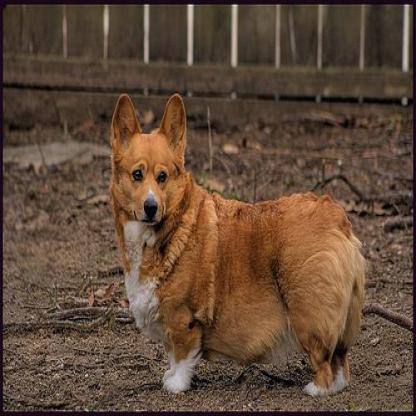Pembroke: (106, 86, 369, 391)
